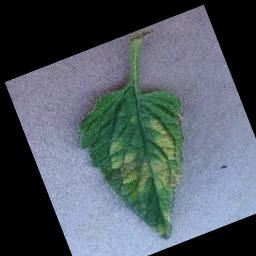Leaf_Mold: (100, 110, 193, 205)
